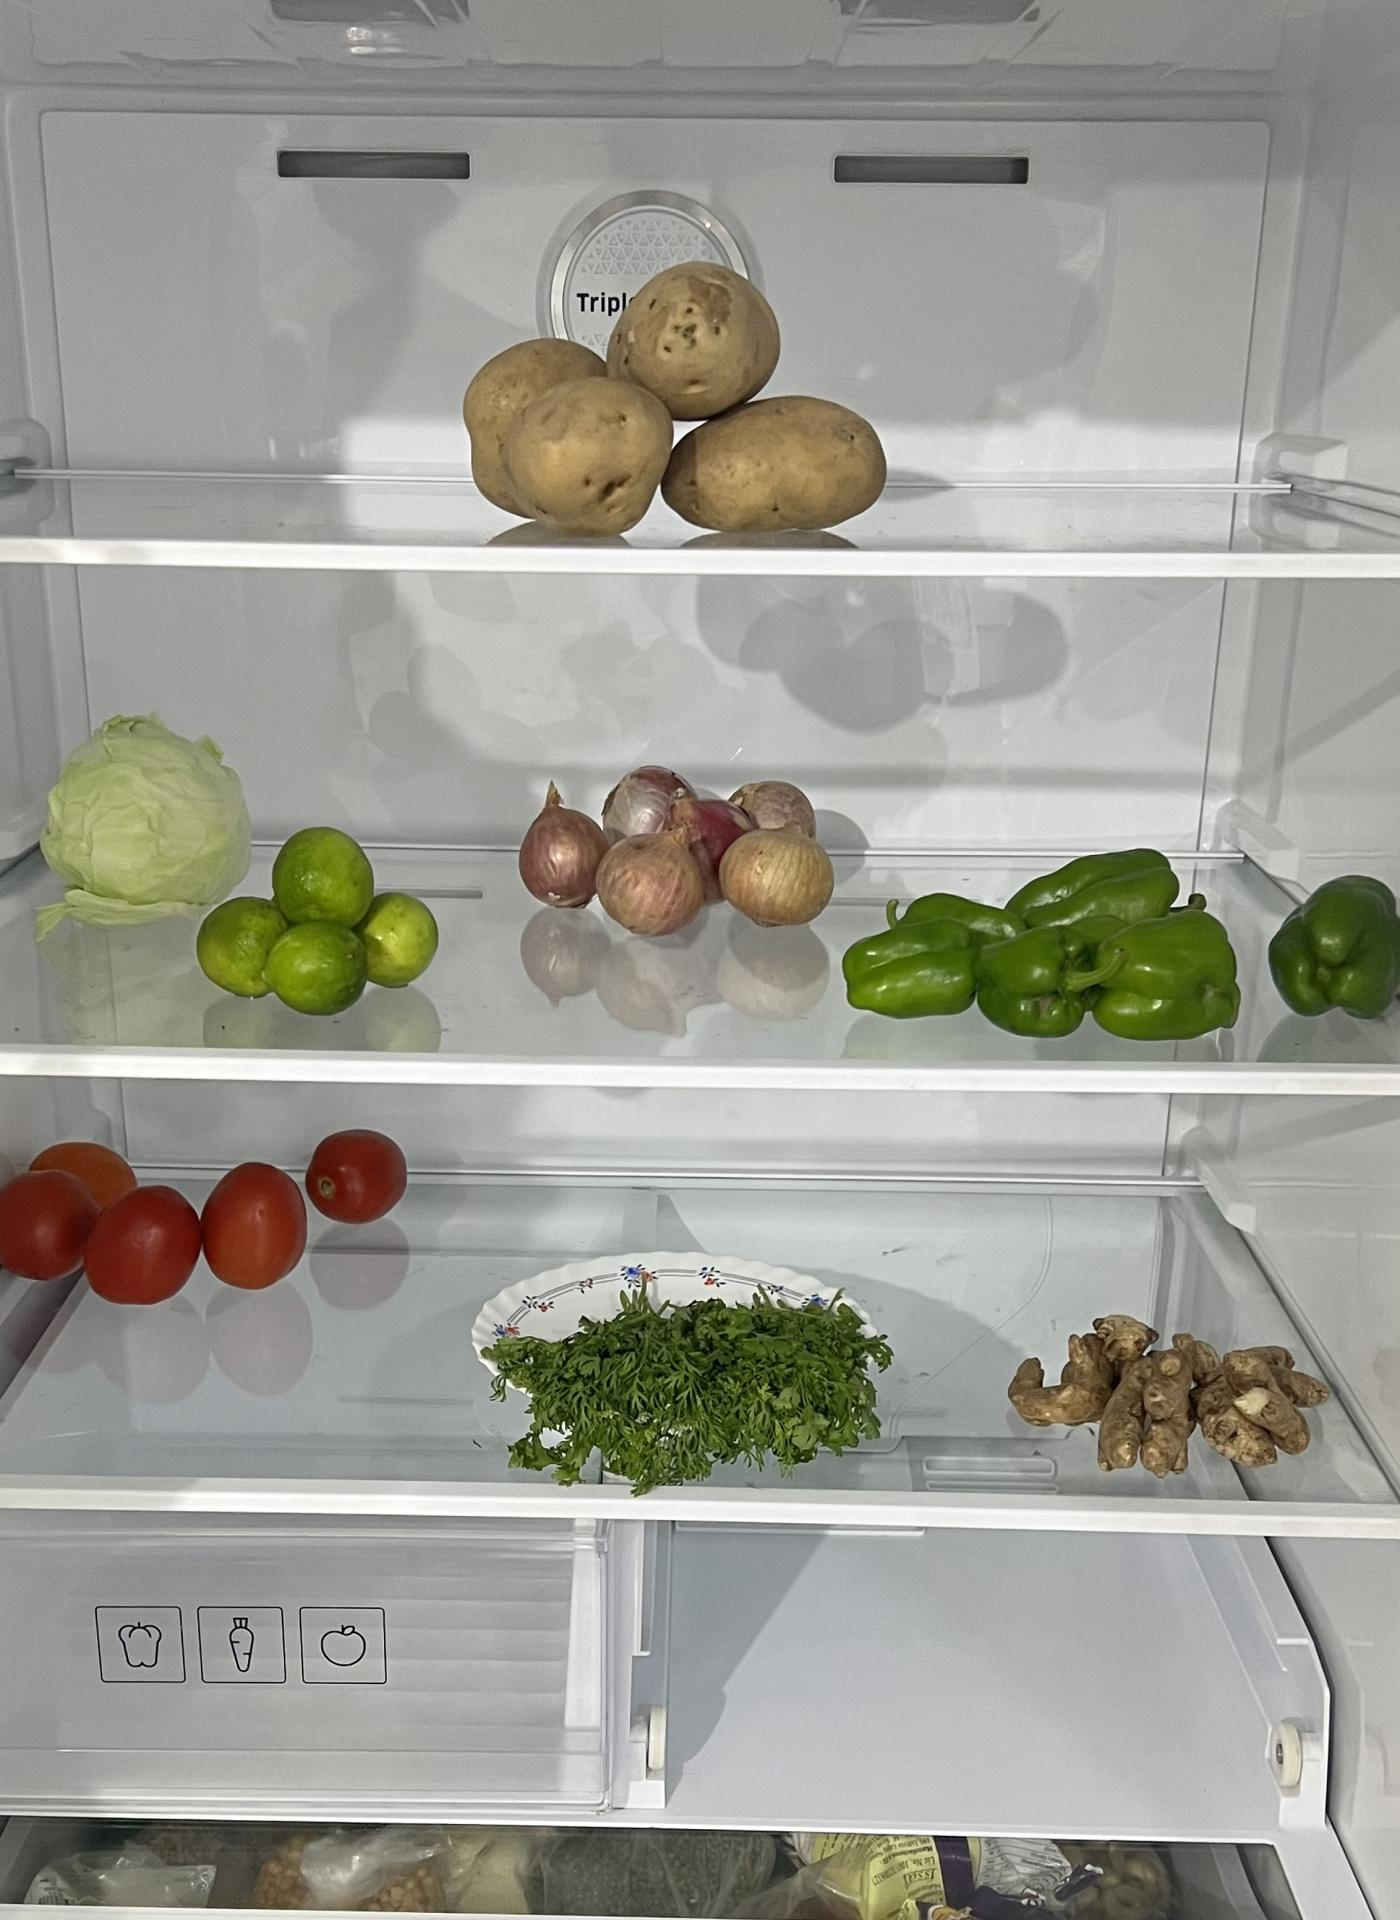cabbage: (51, 707, 245, 921)
capsicum: (841, 847, 1394, 1038)
coriander: (482, 1285, 901, 1476)
ginger: (1012, 1309, 1324, 1471)
lemon: (197, 820, 438, 1020)
onion: (514, 760, 832, 938)
potato: (456, 256, 886, 541)
tomato: (7, 1105, 406, 1301)
